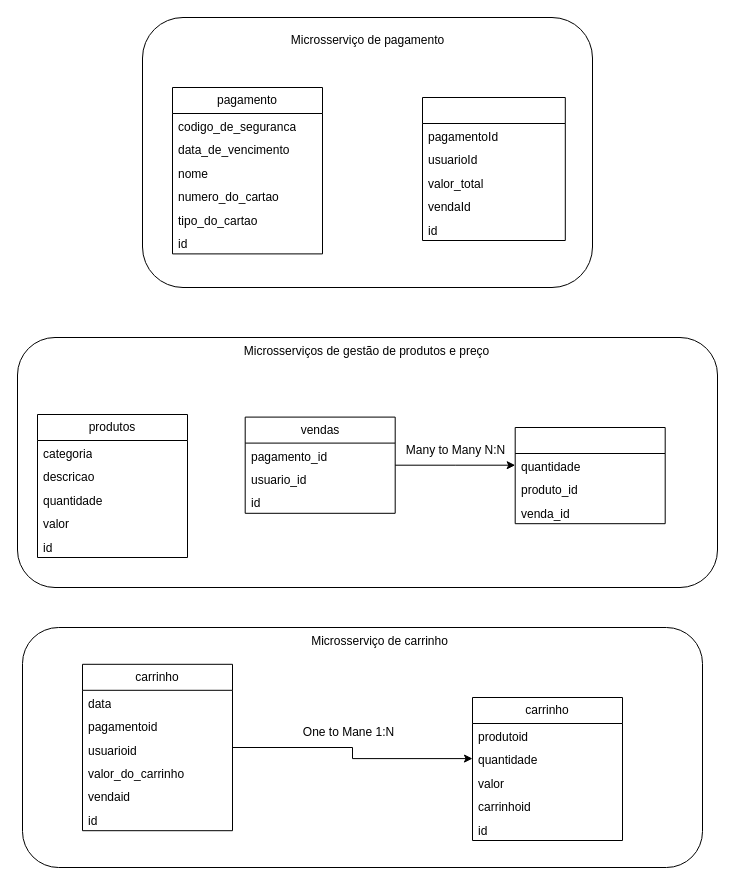
Image size: 735x885. Some labels were removed from this diagram. The shapes that lost their labels are listed below. From the top down, each one's box as (x1, y1, x2, y2) in pixels, then its label:
(422, 96, 565, 240): extrato_pagamento
(514, 426, 665, 524): informacoes_da_venda
